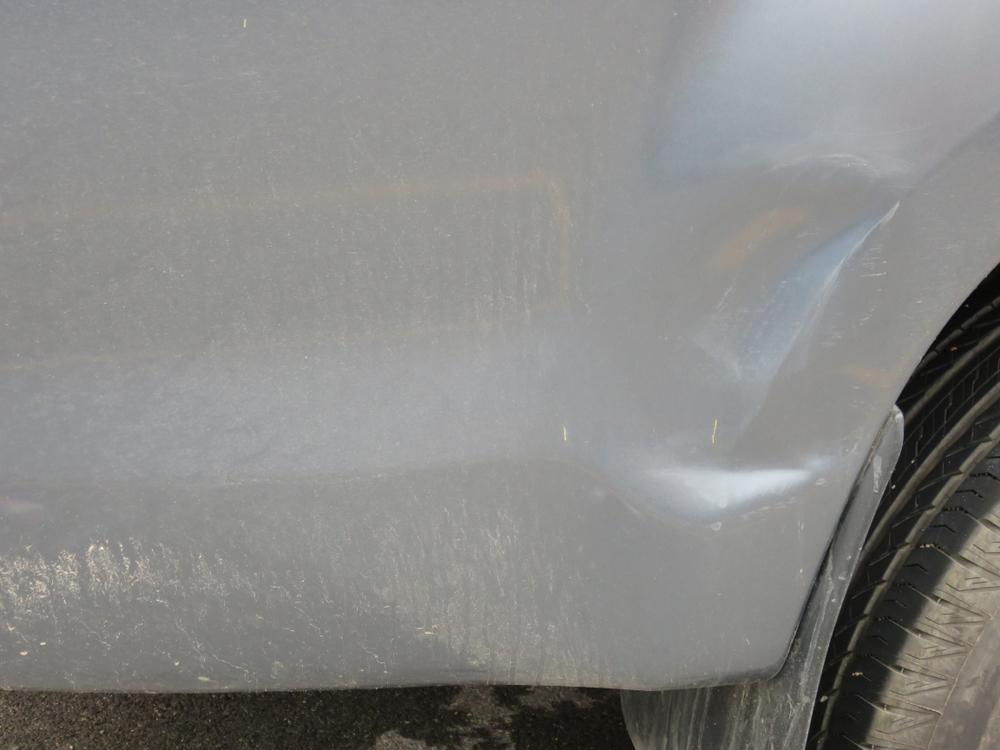dent: (623, 164, 904, 517)
